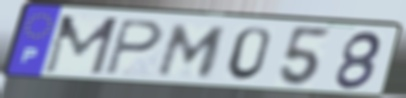0: (222, 26, 274, 84)
5: (276, 23, 335, 90)
8: (333, 29, 382, 92)
M: (41, 14, 122, 77), (153, 22, 231, 79)
P: (103, 17, 165, 77)
